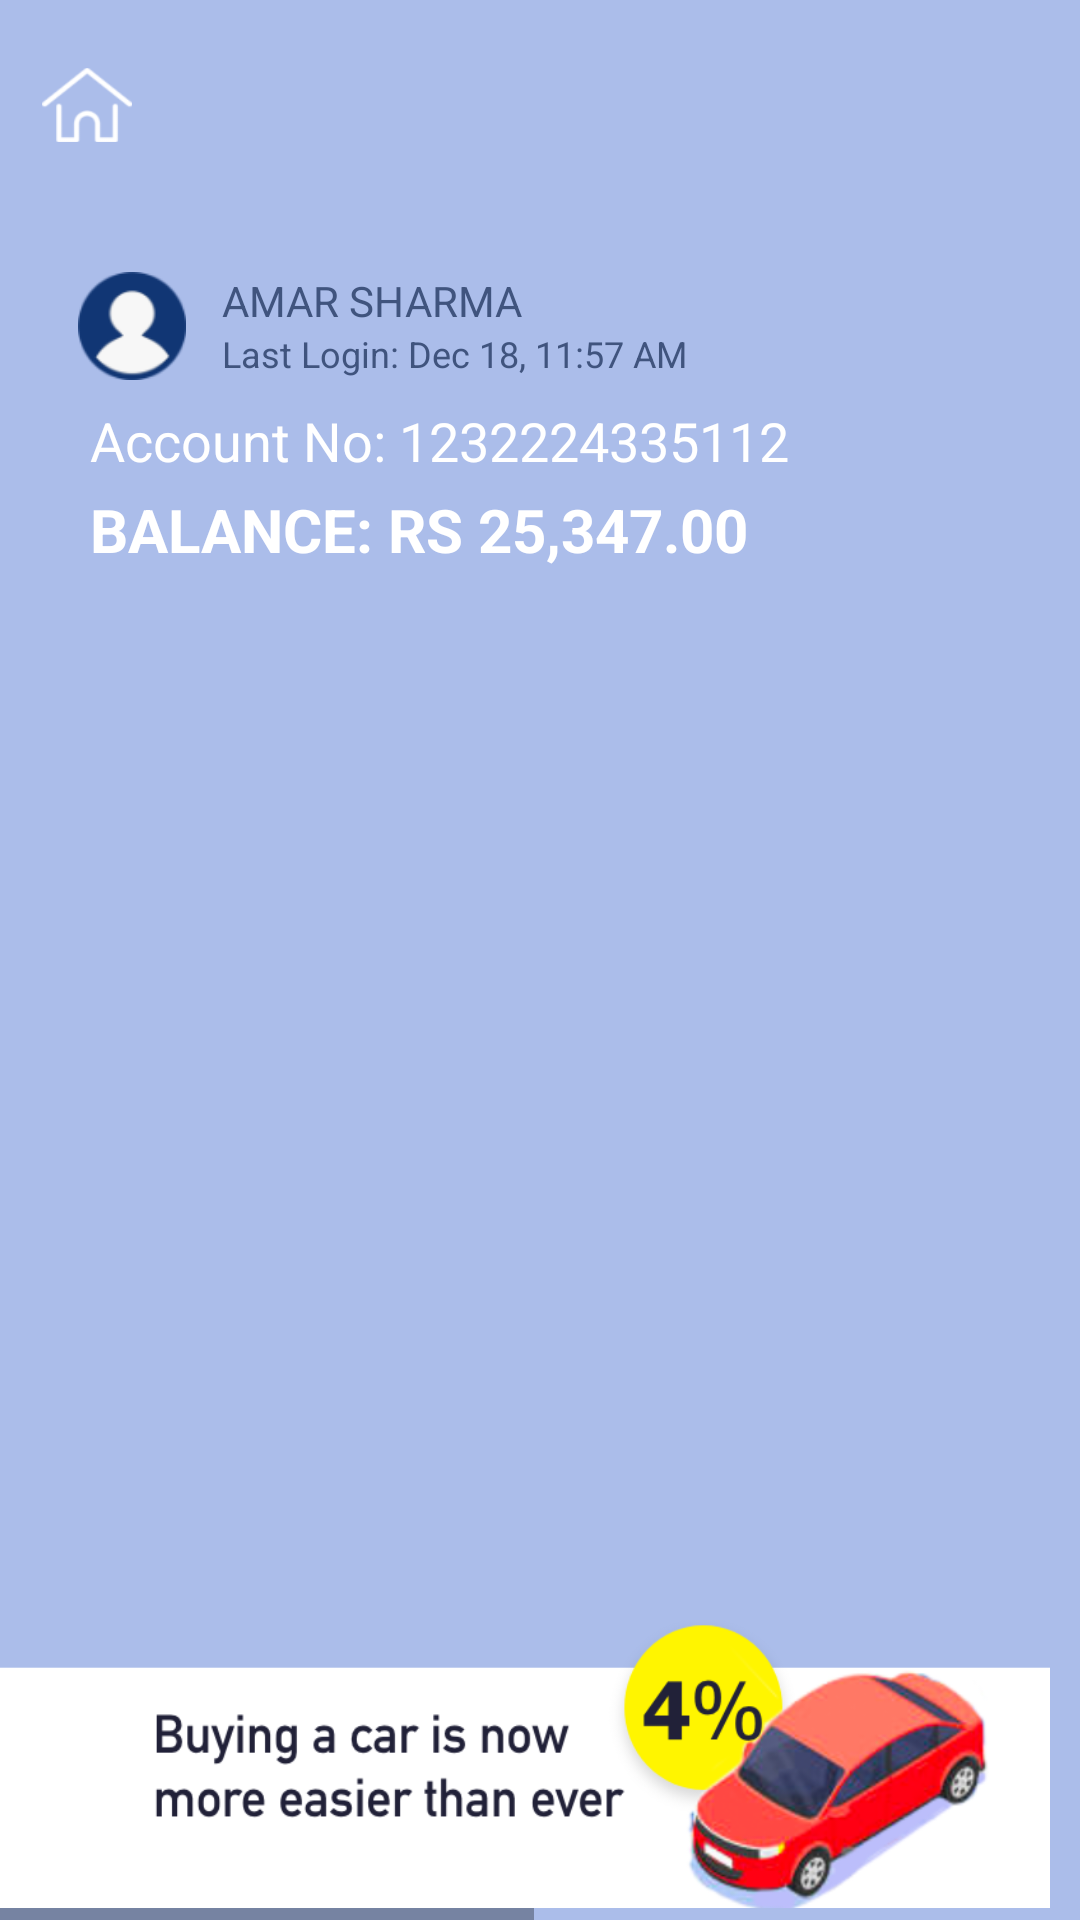

Screen size 1080*1920. Icon name, then its box in pixels as (x1, y1, x2, y2):
home: (42, 68, 132, 142)
user: (78, 272, 186, 380)
